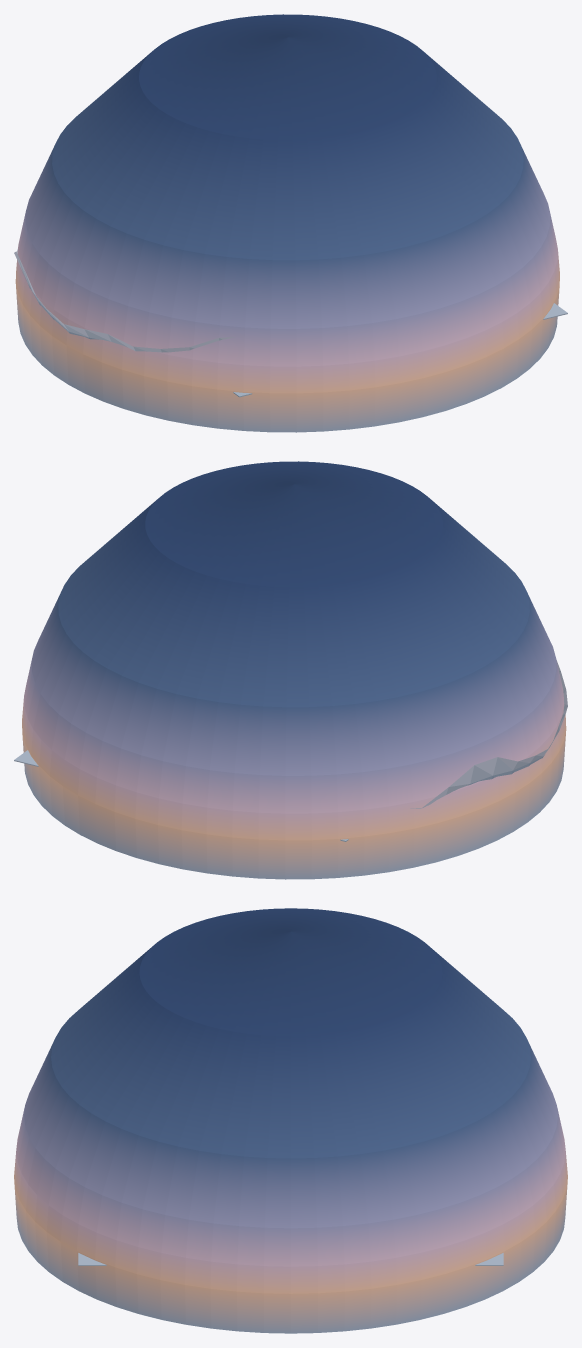
File: bitcoin_hall_draco.glb
3 renders of one model, top to bottom at view 1: azimuth 30°, elevation 25°; view 2: azimuth 150°, elevation 25°; view 3: azimuth 270°, elevation 25°, orthographic.
Parts seen in each view (by area): view 1: Snow_Courtyard; view 2: Snow_Courtyard; view 3: Snow_Courtyard.
Part boxes in pixels (x1,y1,x2,y2): Snow_Courtyard: [14, 14, 567, 432]; Snow_Courtyard: [14, 461, 567, 879]; Snow_Courtyard: [14, 908, 567, 1333].
Size of what is drawn, in the model's own units: 174 by 98 by 172.
